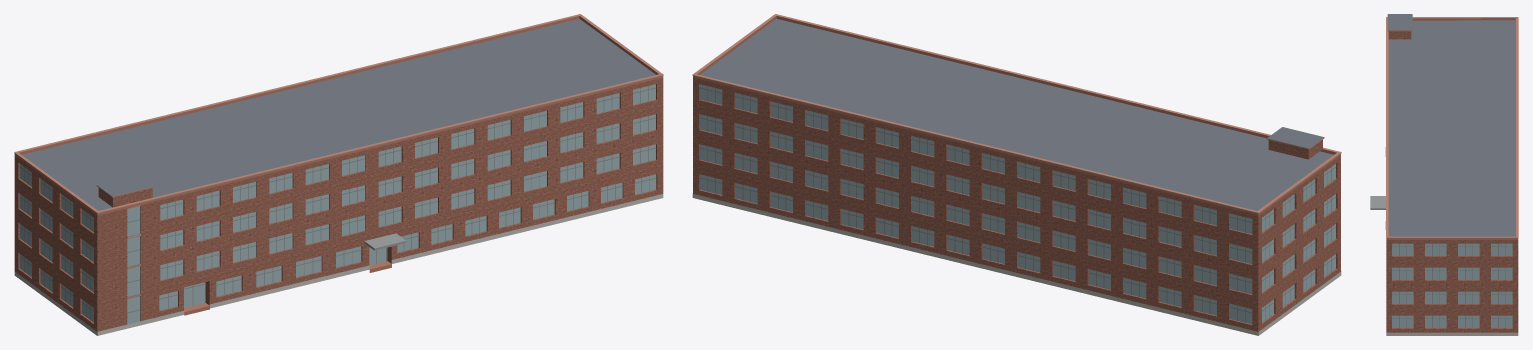
3 views of the same model, side by side, from view 1: azimuth 30°, elevation 25°; view 2: azimuth 150°, elevation 25°; view 3: azimuth 270°, elevation 25° (orthographic). The views are drawn at different scales.
Parts seen in each view (by area): view 1: b115951746__wall, b115951746__roof, b115951746__glass, b115951746__frame, b115951746__parapet, b115951746__trim, b115951746__base; view 2: b115951746__wall, b115951746__roof, b115951746__glass, b115951746__frame, b115951746__parapet, b115951746__trim, b115951746__base; view 3: b115951746__roof, b115951746__wall, b115951746__glass, b115951746__trim, b115951746__frame, b115951746__parapet, b115951746__base, b115951746__canopy.
Boxes of the visible parts, x1,y1,x2,y2 form: b115951746__wall: (14,77,663,335); b115951746__roof: (22,18,655,298); b115951746__glass: (20,84,656,324); b115951746__frame: (20,86,656,320); b115951746__parapet: (14,16,663,215); b115951746__trim: (14,14,663,213); b115951746__base: (14,194,663,335); b115951746__wall: (693,77,1340,335); b115951746__roof: (700,18,1333,210); b115951746__glass: (700,84,1335,324); b115951746__frame: (700,86,1336,322); b115951746__parapet: (693,16,1340,215); b115951746__trim: (692,14,1341,213); b115951746__base: (692,193,1341,335); b115951746__roof: (1387,14,1515,236); b115951746__wall: (1386,31,1518,332); b115951746__glass: (1392,243,1512,327); b115951746__trim: (1386,17,1518,238); b115951746__frame: (1392,243,1512,327); b115951746__parapet: (1386,18,1518,239); b115951746__base: (1386,332,1518,335); b115951746__canopy: (1370,196,1385,209).
Bounding box in the file's own units: 71.02 × 16.55 × 20.2.
Materials: 11 (1 with a texture image).
